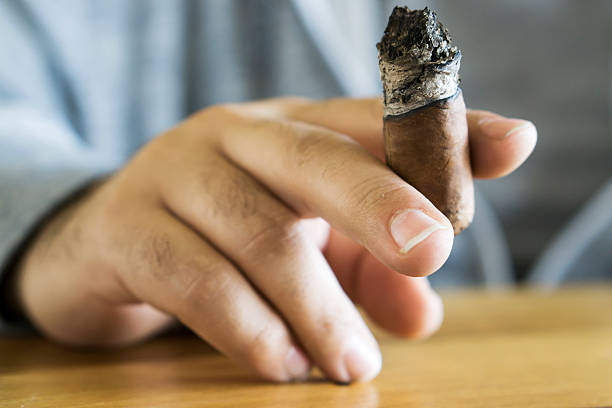cigarette: (377, 6, 476, 235)
